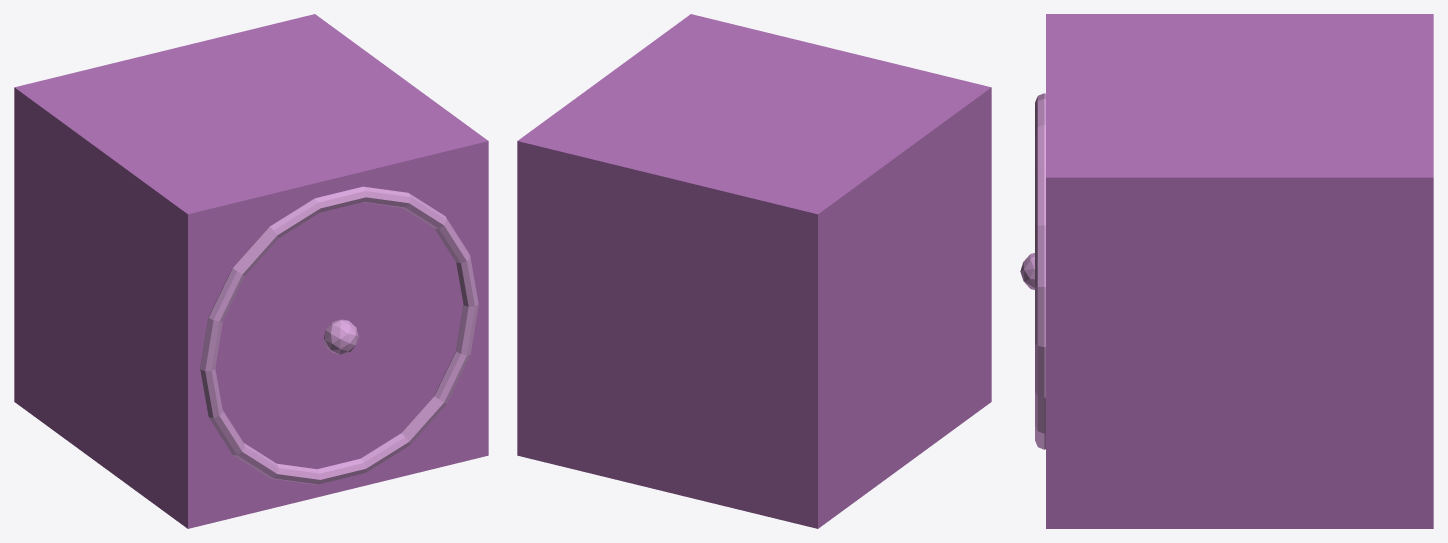
Rendered from tausch.glb.
The picture shows the model from 3 angles, left to right: view 1: azimuth 30°, elevation 25°; view 2: azimuth 150°, elevation 25°; view 3: azimuth 270°, elevation 25°; orthographic projection. The views are drawn at different scales.
Visible parts, largest first — view 1: world; view 2: world; view 3: world.
Boxes of the visible parts, x1,y1,x2,y2 form: world: [14, 14, 488, 528]; world: [517, 14, 991, 528]; world: [1020, 14, 1433, 528].
Bounding box in the file's own units: 1.05 × 1.05 × 1.12.
